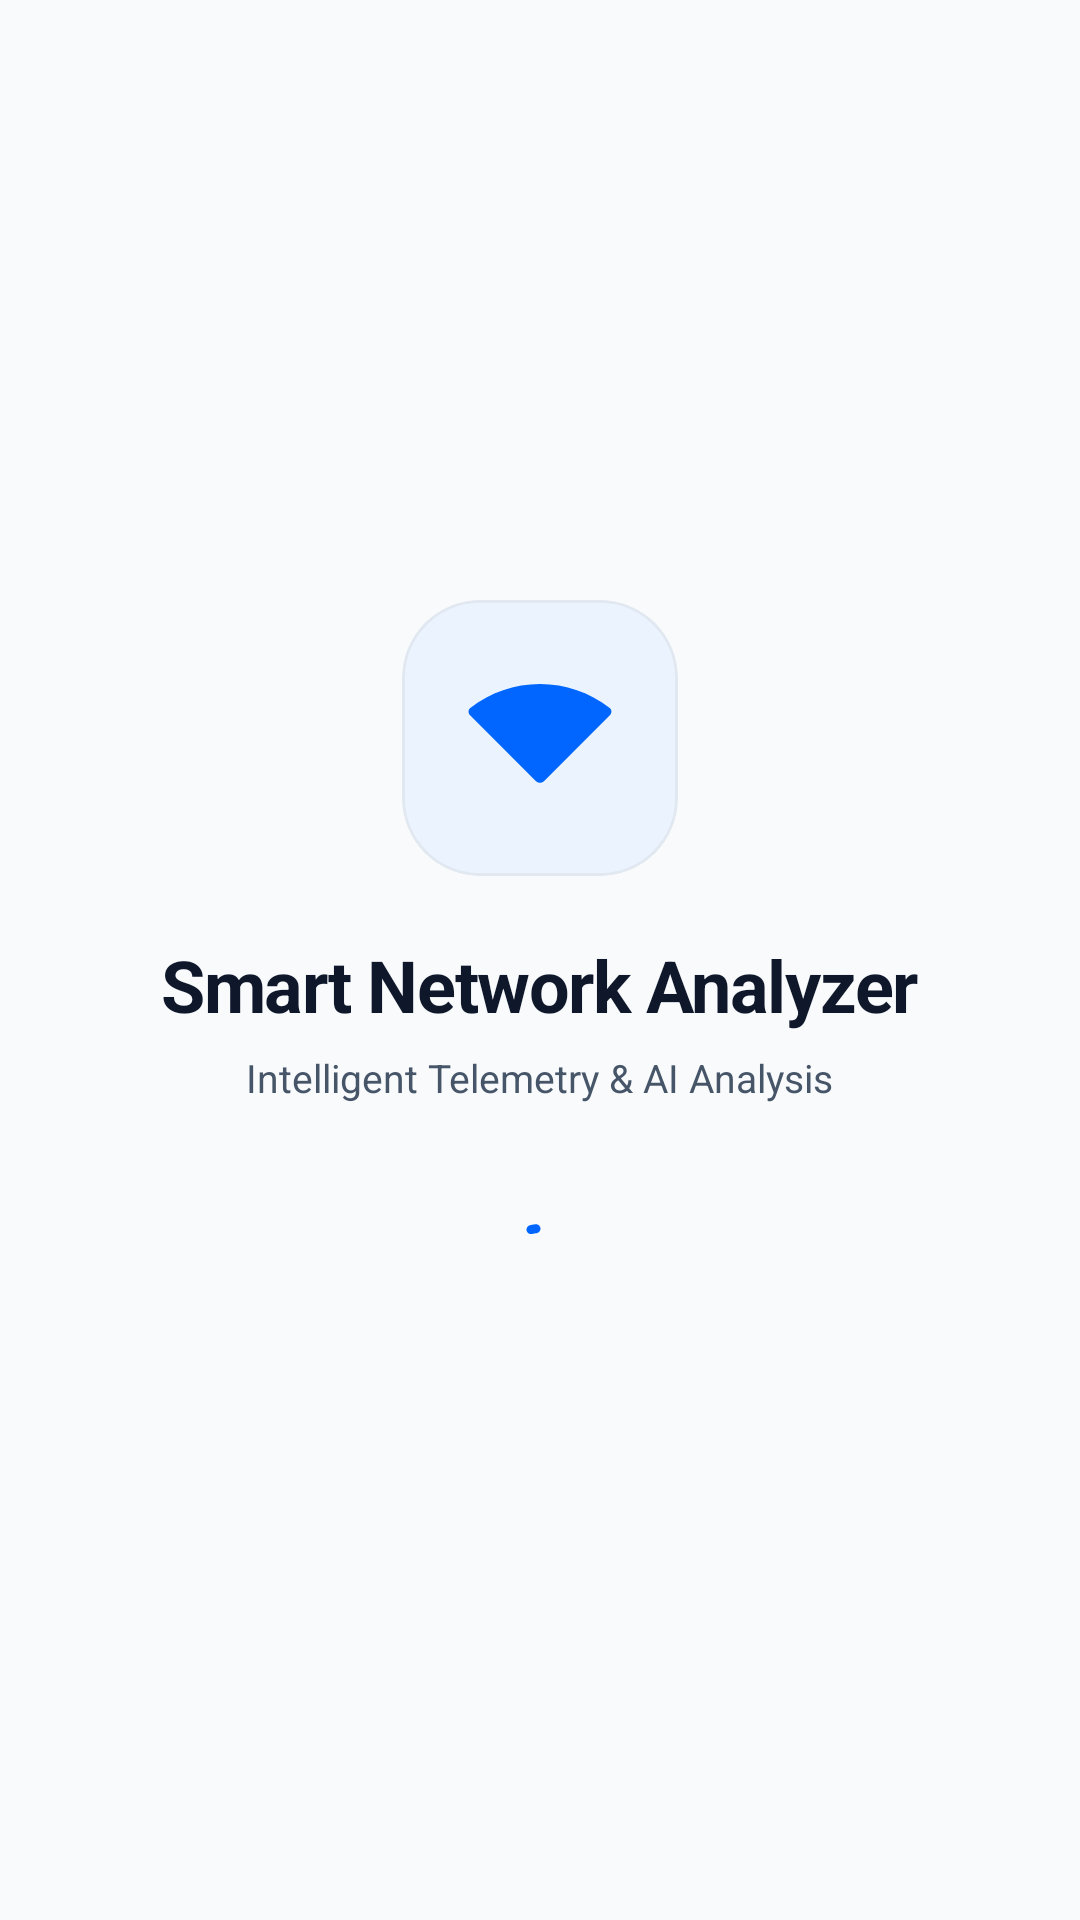

Icons on this 1080×1920 Android screen, each with its box as (x1, y1, x2, y2):
wifi: (468, 684, 612, 783)
